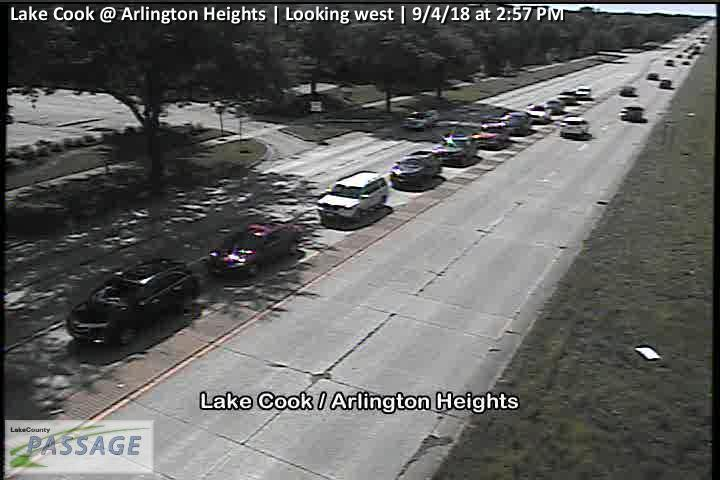SUV: (67, 260, 192, 342), (317, 171, 386, 223), (390, 150, 441, 188), (431, 136, 477, 166), (472, 123, 508, 150), (560, 116, 588, 139), (503, 112, 529, 136), (528, 104, 548, 124), (620, 106, 644, 122), (558, 90, 576, 106), (543, 101, 561, 114), (577, 87, 591, 99)
Sedan: (209, 221, 303, 275), (620, 86, 634, 96), (660, 79, 672, 89), (647, 72, 660, 79)
